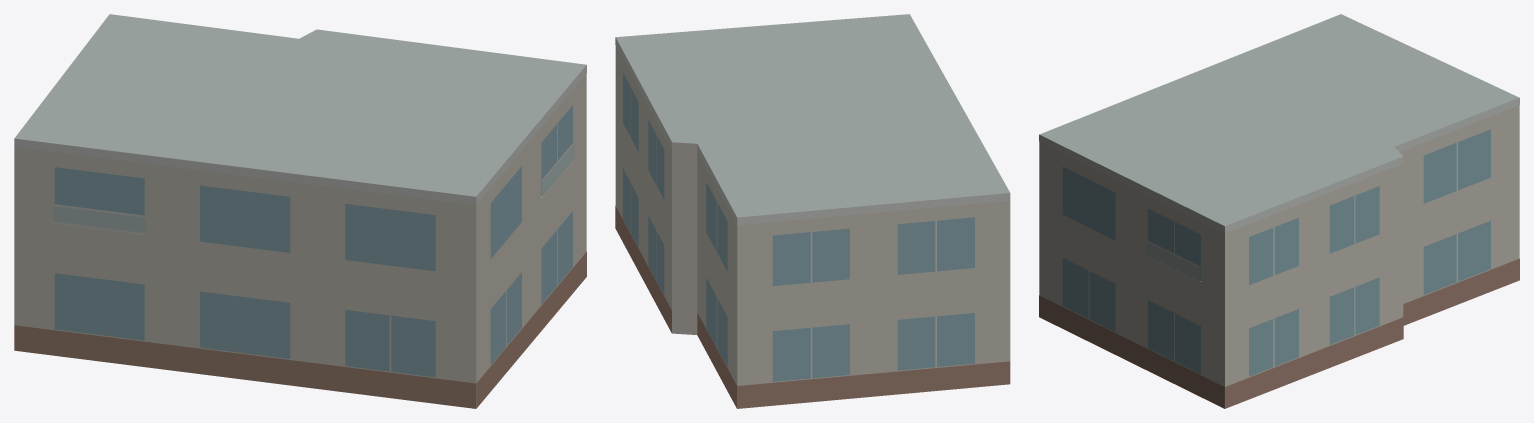
The model's file is survey-upis-32897411.glb.
The picture shows the model from 3 angles, left to right: view 1: azimuth 30°, elevation 25°; view 2: azimuth 150°, elevation 25°; view 3: azimuth 270°, elevation 25°; orthographic projection. The views are drawn at different scales.
Parts seen in each view (by area): view 1: survey-upis-32897411.tmp; view 2: survey-upis-32897411.tmp; view 3: survey-upis-32897411.tmp.
Boxes of the visible parts, x1,y1,x2,y2 form: survey-upis-32897411.tmp: (14,14,586,408); survey-upis-32897411.tmp: (615,14,1010,408); survey-upis-32897411.tmp: (1039,14,1519,408).
Bounding box in the file's own units: 15.21 × 6.1 × 14.55.
